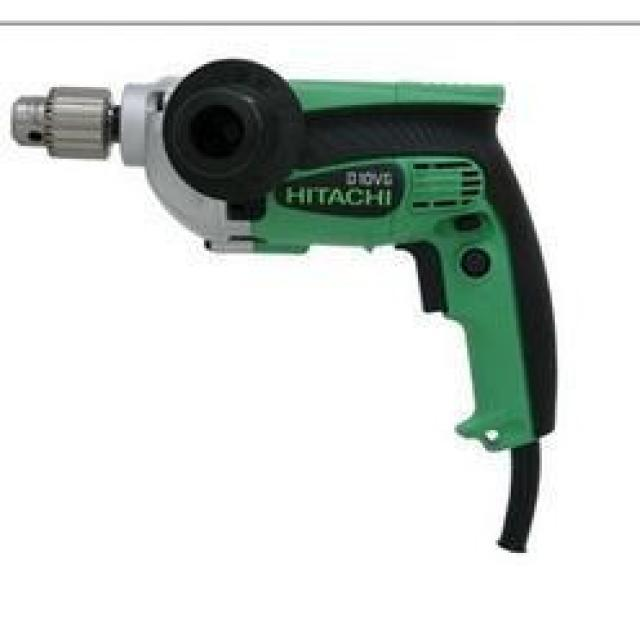drill: (10, 58, 558, 554)
